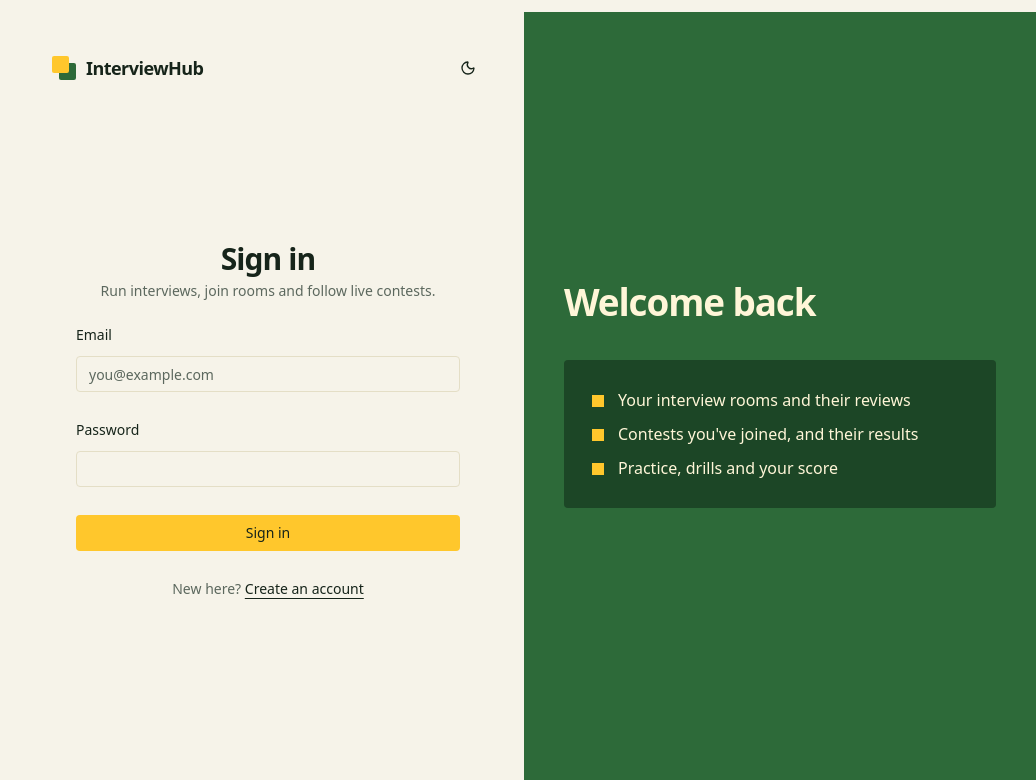
Test: Login page › signs in and returns to the page the user was headed for
Type "priya@example.com" into the field labelled "Email" at point(268, 374), box left=76, top=356, right=460, bottom=392
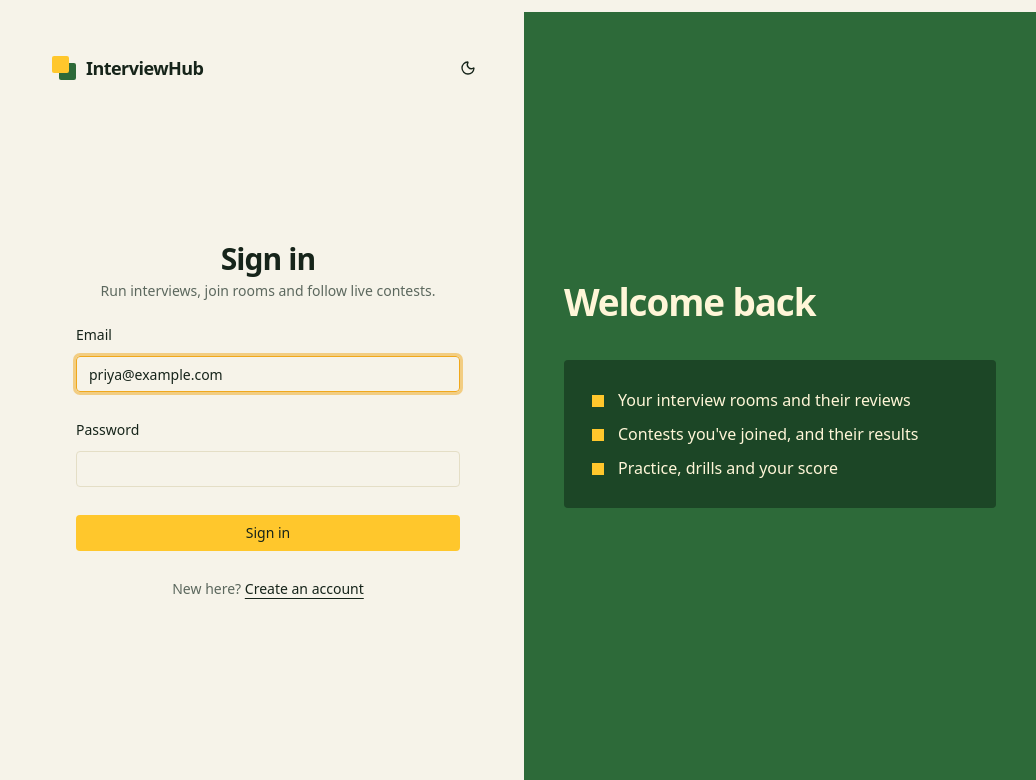
Type "secret123" into the password field labelled "Password" at point(268, 469), box left=76, top=451, right=460, bottom=487
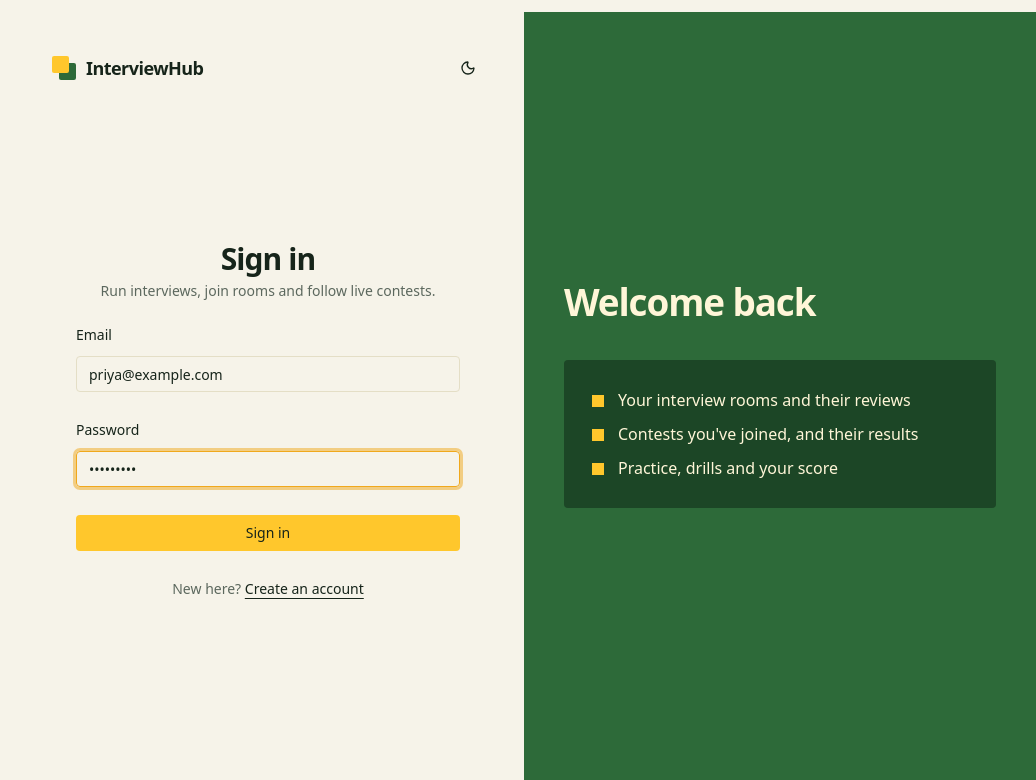
Click the button "Sign in" at point(268, 533), box left=76, top=515, right=460, bottom=551
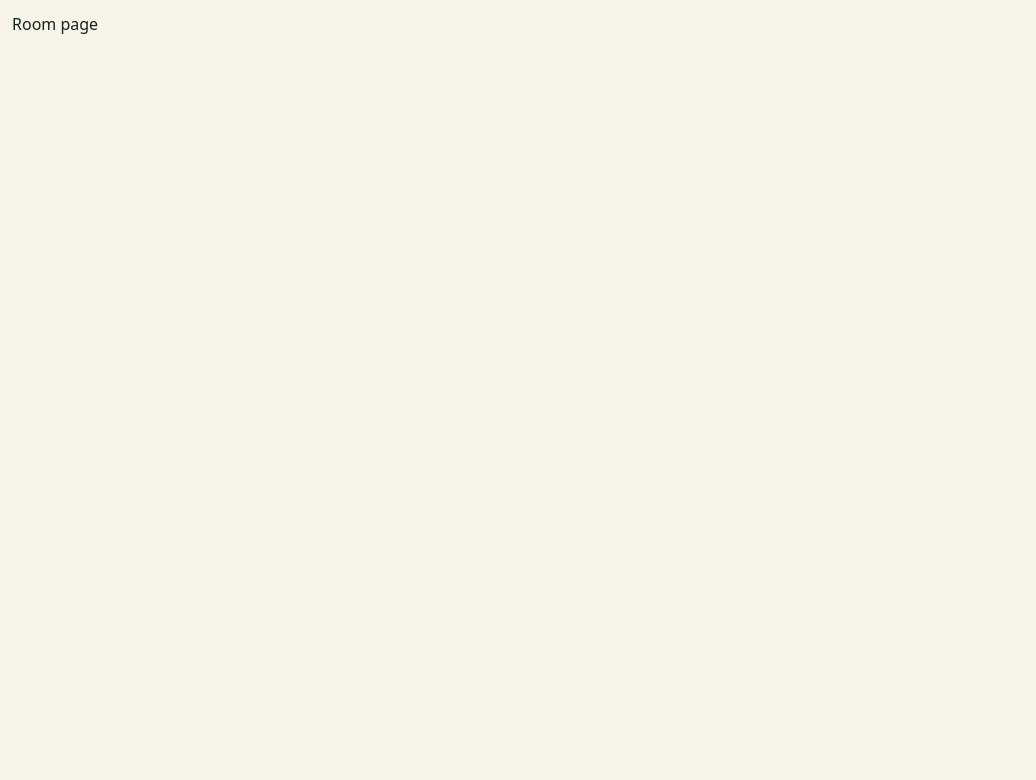
Expected: the text "Room page" is shown, left=12, top=13, right=98, bottom=35
